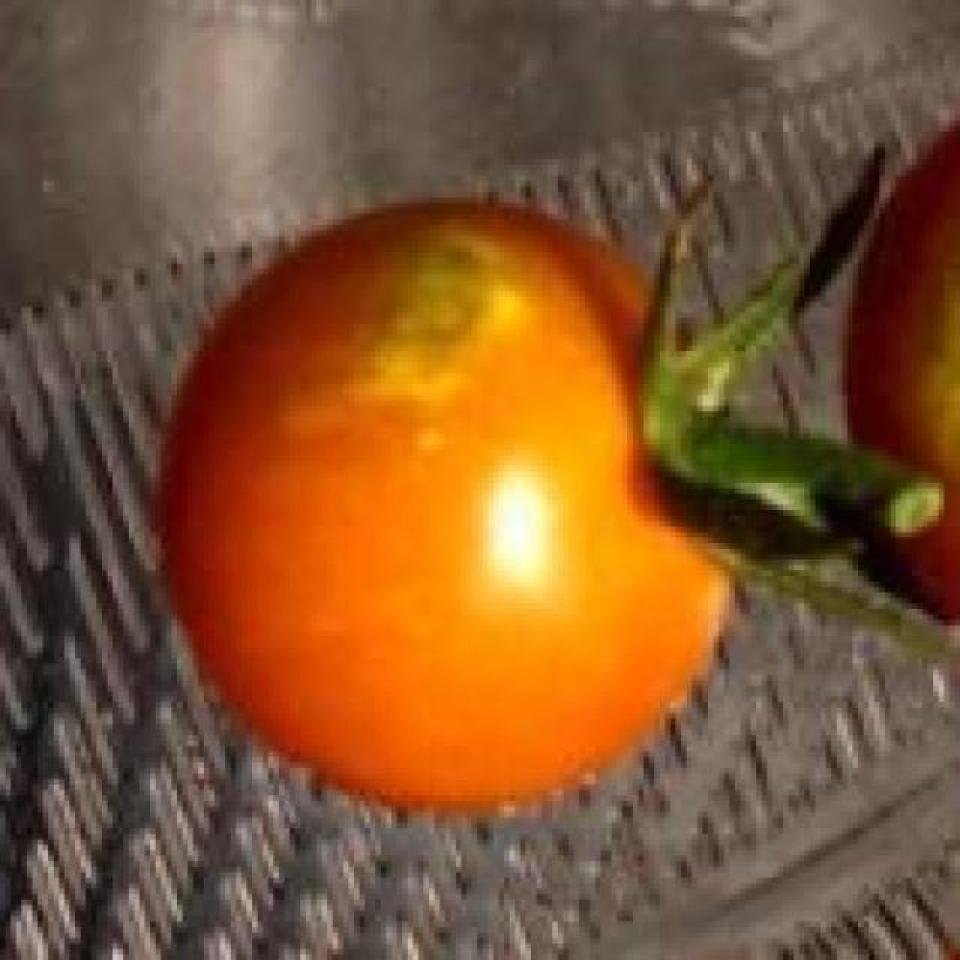Sunscald: (274, 216, 536, 480)
